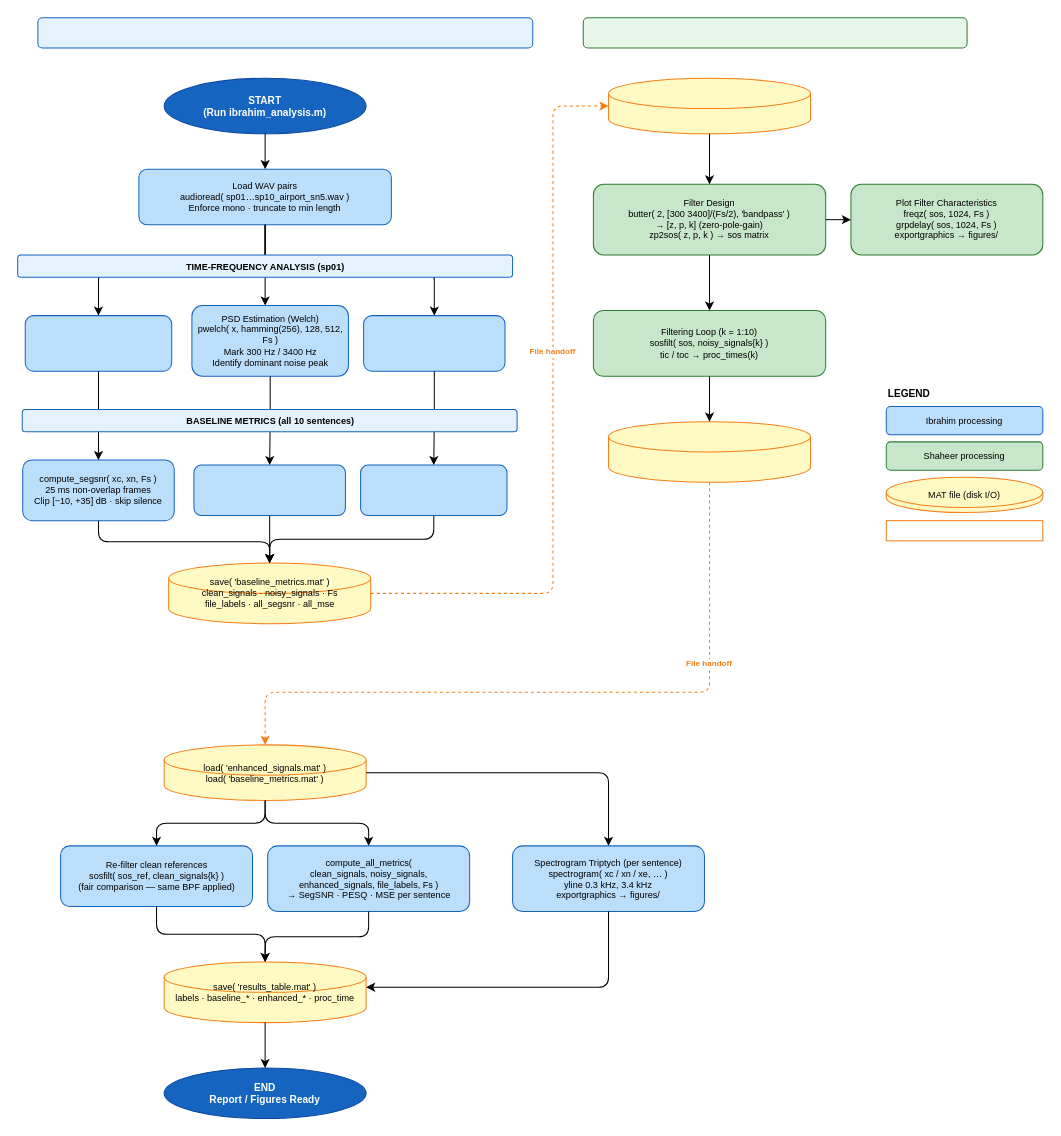
This 1061x1136 diagram has some shape labels left out. The centre of each missing label's shape, as x and y in pixels:
"File handoff (dashed)" goes at point (964, 530).
"Ibrahim (ibrahim_analysis.m / ibrahim_postfilter_eval.m)" goes at point (285, 32).
"load( 'baseline_metrics.mat' ) clean_signals · noisy_signals · Fs" goes at point (709, 105).
"MSE mean( (xc − xn).^2 )" goes at point (269, 490).
"PESQ (ITU P.862) pesq( xc, xn, Fs ) [N/A — toolbox absent]" goes at point (433, 490).
"save( 'enhanced_signals.mat' ) enhanced_signals · proc_times" goes at point (709, 451).
"Shaheer (FOR_SHAHEER_filter_interface.m)" goes at point (774, 32).
"Spectrogram spectrogram( x, hamming(256), 192, 512, Fs ) clim [ −80, +20 ] dB" goes at point (434, 343).
"Time-Domain Waveform plot( t, x_clean ) · plot( t, x_noisy ) subplot 2×1" goes at point (98, 343).
